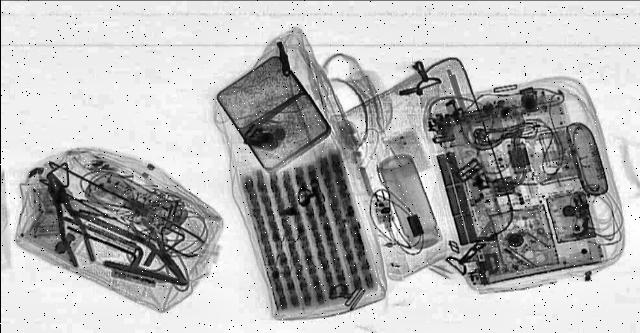Pliers: (38, 171, 100, 267), (123, 217, 199, 283)
